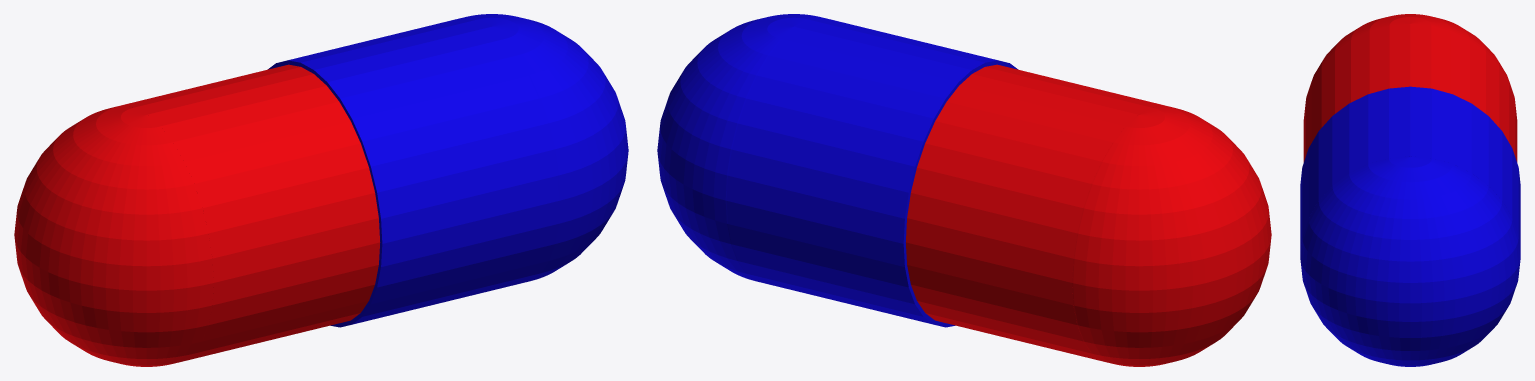
Rendered from drugs.fbx.
3 renders of one model, left to right at view 1: azimuth 30°, elevation 25°; view 2: azimuth 150°, elevation 25°; view 3: azimuth 270°, elevation 25°, orthographic. The views are drawn at different scales.
Parts seen in each view (by area): view 1: Cylinder, Cylinder.001; view 2: Cylinder, Cylinder.001; view 3: Cylinder.001, Cylinder.
Part boxes in pixels (left/top/right/bottom): Cylinder: left=14, top=64, right=380, bottom=366; Cylinder.001: left=268, top=14, right=628, bottom=327; Cylinder: left=905, top=64, right=1271, bottom=366; Cylinder.001: left=657, top=14, right=1017, bottom=327; Cylinder.001: left=1300, top=86, right=1520, bottom=366; Cylinder: left=1303, top=14, right=1517, bottom=162.
Size of the model in its own units: 505 by 207 by 207.
